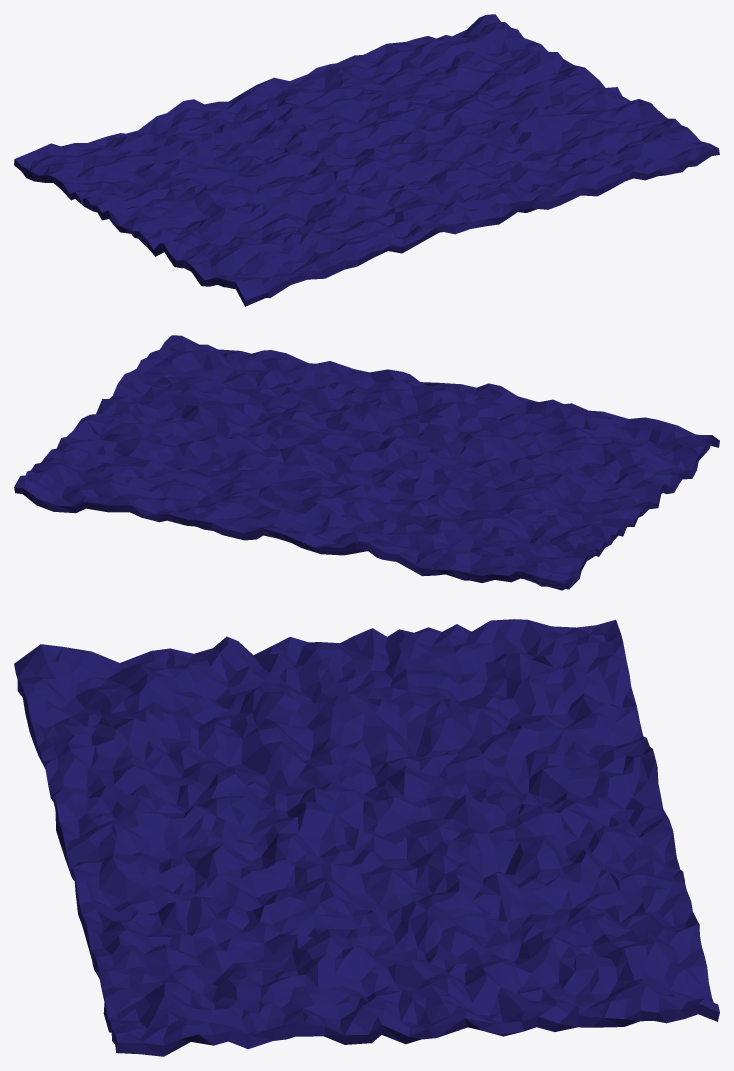
Rendered from Alfombra.fbx.
The picture shows the model from 3 angles, top to bottom: view 1: azimuth 30°, elevation 25°; view 2: azimuth 150°, elevation 25°; view 3: azimuth 270°, elevation 25°; orthographic projection. The views are drawn at different scales.
Parts seen in each view (by area): view 1: Plane.001; view 2: Plane.001; view 3: Plane.001.
Boxes of the visible parts, x1,y1,x2,y2 form: Plane.001: (14,14,719,306); Plane.001: (14,335,719,590); Plane.001: (14,619,719,1056).
Bounding box in the file's own units: 89.23 × 124 × 6.11.
